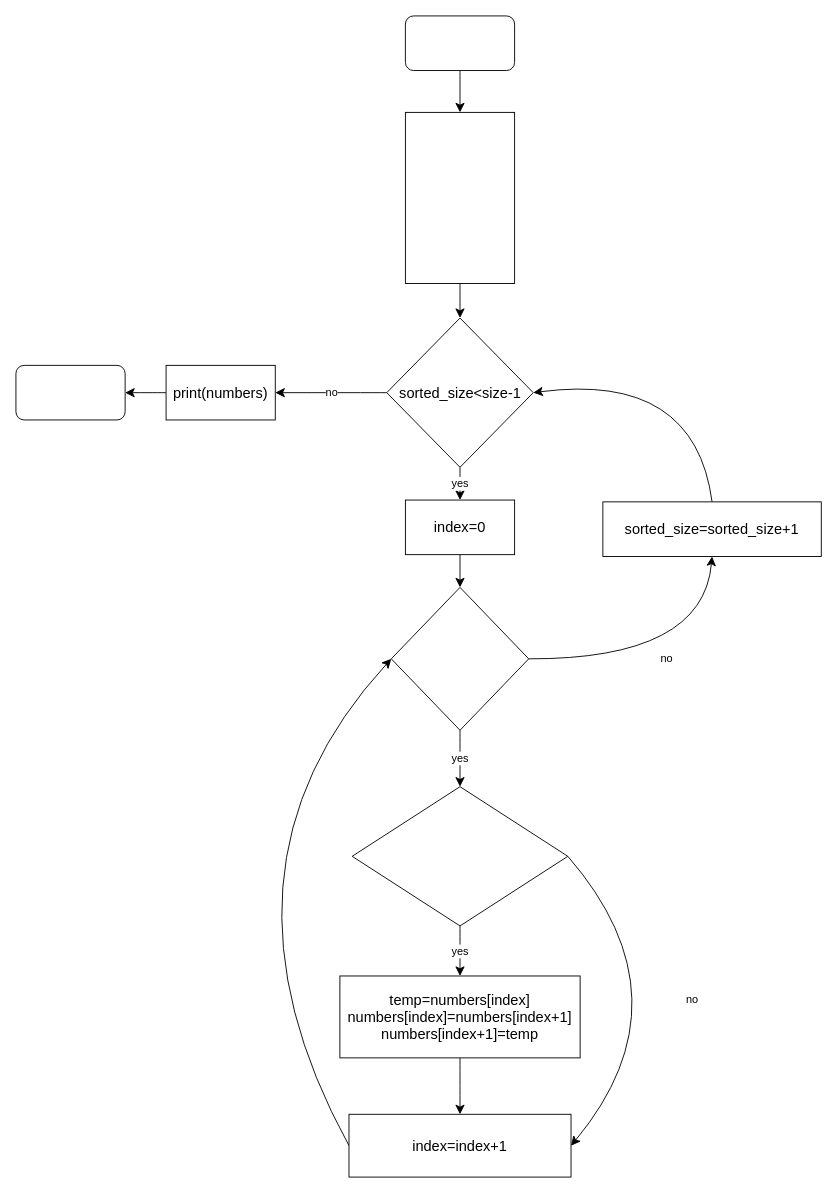
This 837x1193 diagram has some shape labels left out. The centre of each missing label's shape, as x and y in pixels:
"index<(size-1-sorted_size)" goes at point 459,658.
"numbers=size sorted_size=0" goes at point 459,197.
"numbers[index]>numbers[index-1]" goes at point 459,856.
